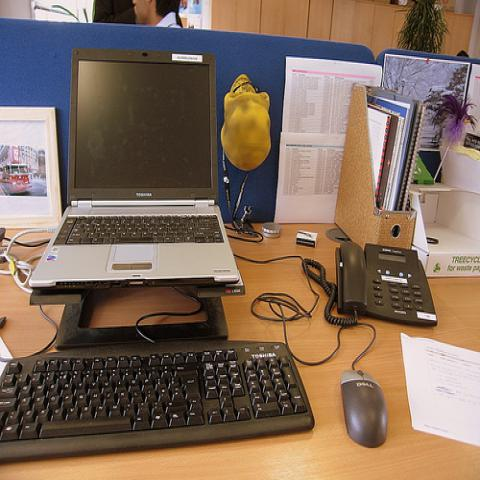truck: (0, 163, 33, 194)
